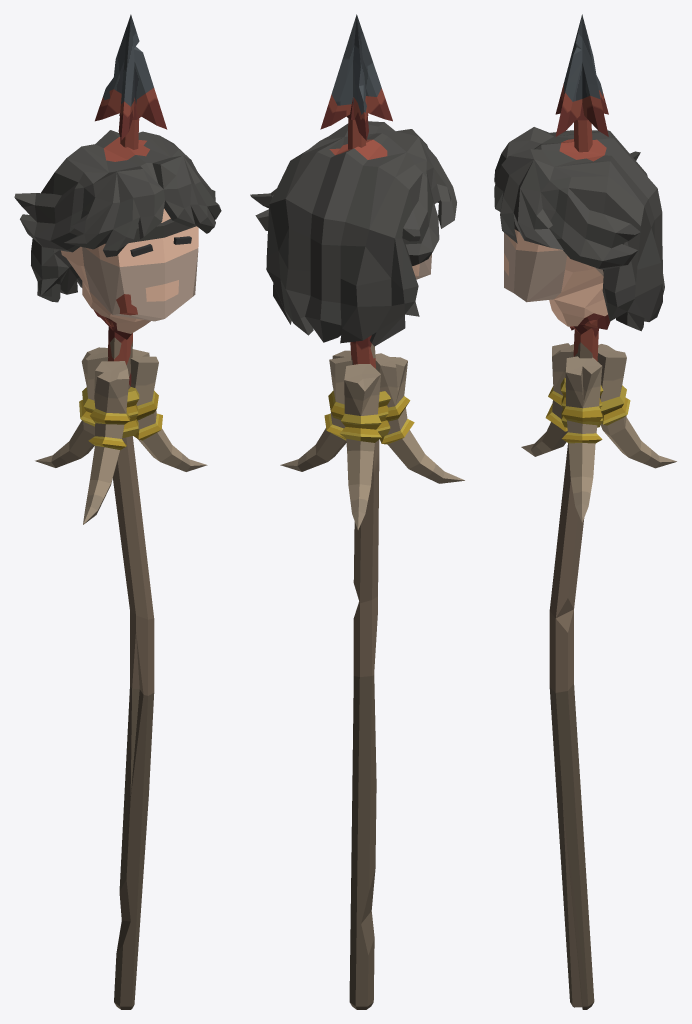
File: bog_head_spike.gltf
3 renders of one model, left to right at view 1: azimuth 30°, elevation 25°; view 2: azimuth 150°, elevation 25°; view 3: azimuth 270°, elevation 25°, orthographic.
Parts seen in each view (by area): view 1: bog_head_spike; view 2: bog_head_spike; view 3: bog_head_spike.
Boxes of the visible parts, left/top/right/bottom form: bog_head_spike: left=14, top=14, right=221, bottom=1009; bog_head_spike: left=250, top=14, right=464, bottom=1009; bog_head_spike: left=494, top=14, right=676, bottom=1009.
Size of the model in its own units: 0.3566 by 1.98 by 0.3312.
1 material, 1 textured.
